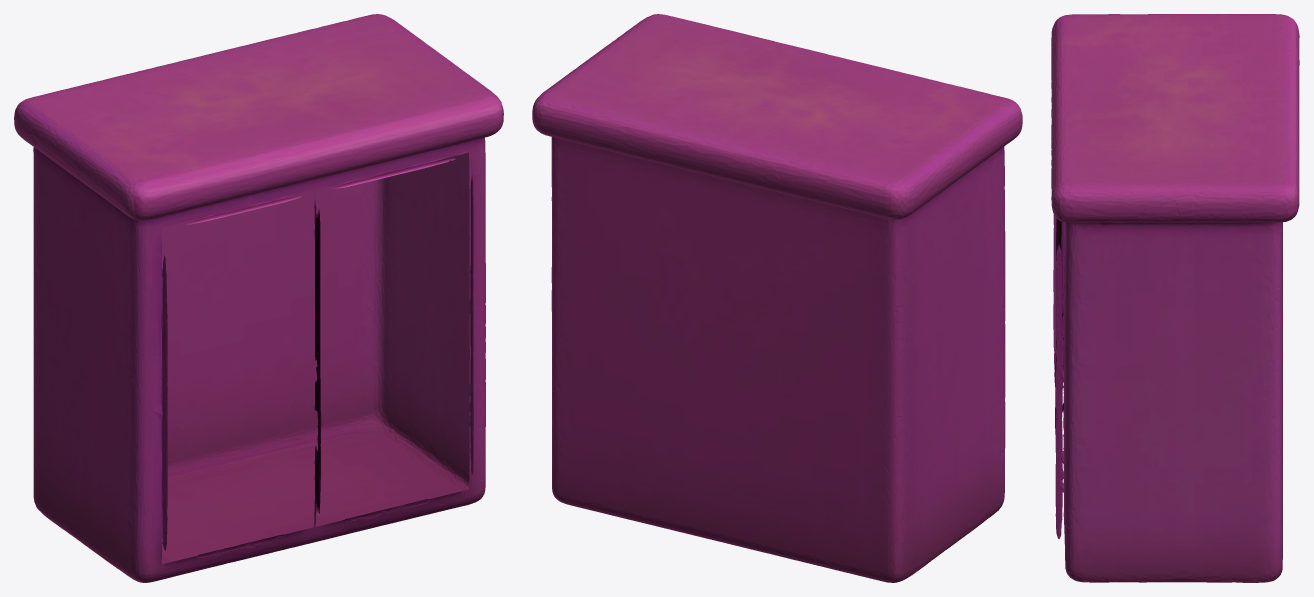
File: body.glb
The picture shows the model from 3 angles, left to right: view 1: azimuth 30°, elevation 25°; view 2: azimuth 150°, elevation 25°; view 3: azimuth 270°, elevation 25°; orthographic projection.
Visible parts, largest first — view 1: source_surface_0; view 2: source_surface_0; view 3: source_surface_0.
Part boxes in pixels (x1,y1,x2,y2): source_surface_0: (14, 14, 503, 582); source_surface_0: (532, 14, 1022, 582); source_surface_0: (1051, 14, 1299, 582).
Size of the model in its own units: 0.3383 by 0.35 by 0.1952.
Materials: 1 (1 with a texture image).
